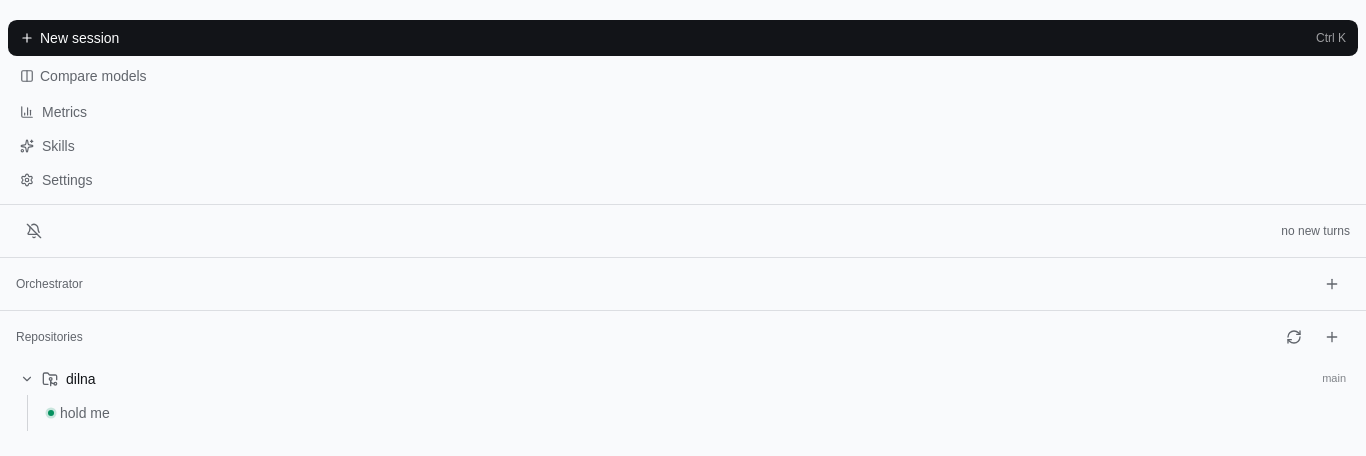
Scenario: Sidebar › sheet row actions (mobile delete) › opens the row menu on long-press and deletes from it
Press the mouse on the button "hold me" at {"x": 85, "y": 413}, box x1=40 y1=397 x2=1358 y2=429
Wait 350 ms
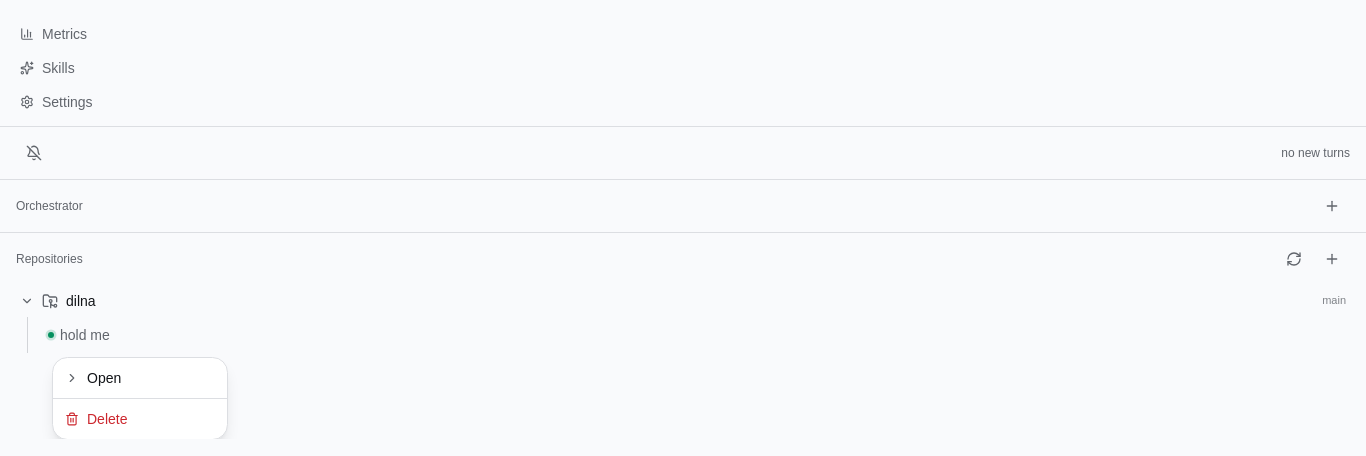
Check: the menu named "Actions for hold me" is shown, box x1=52 y1=357 x2=228 y2=439
Click the menu item "Delete".
click(140, 418)  # box x1=53 y1=398 x2=227 y2=439
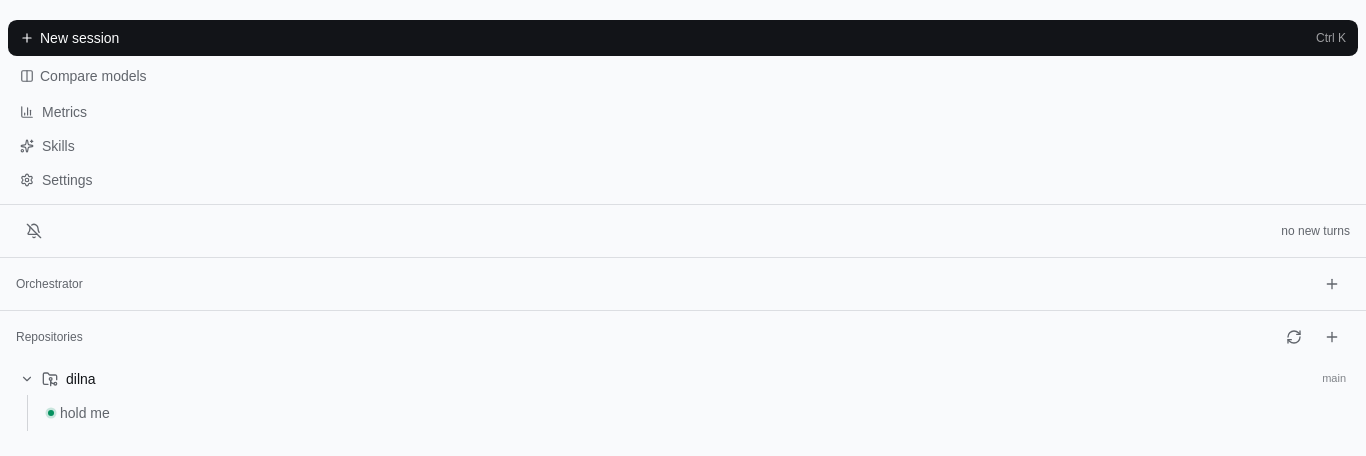
Check: the menu is gone
